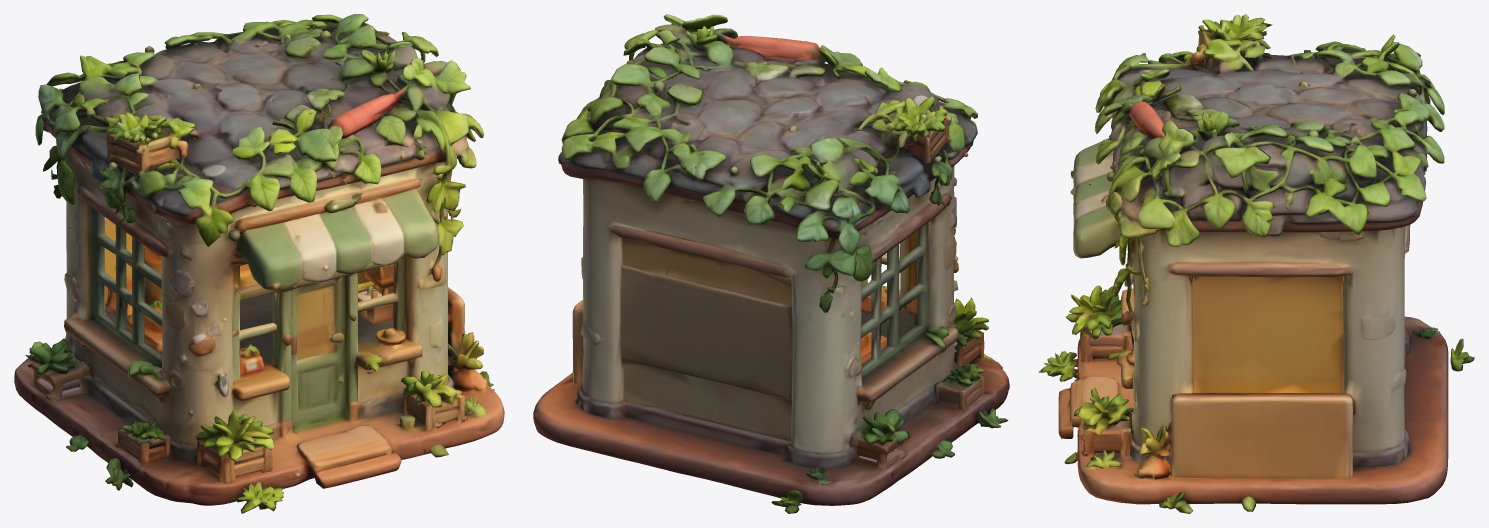
The model's file is survivor-desktop.glb.
3 renders of one model, left to right at view 1: azimuth 30°, elevation 25°; view 2: azimuth 150°, elevation 25°; view 3: azimuth 270°, elevation 25°, orthographic. The views are drawn at different scales.
Parts seen in each view (by area): view 1: tripo_node_530a4247-a100-45eb-ac43-f520bf5e6653; view 2: tripo_node_530a4247-a100-45eb-ac43-f520bf5e6653; view 3: tripo_node_530a4247-a100-45eb-ac43-f520bf5e6653.
Part boxes in pixels (bbox=[...]): tripo_node_530a4247-a100-45eb-ac43-f520bf5e6653: bbox=[14, 14, 504, 513]; tripo_node_530a4247-a100-45eb-ac43-f520bf5e6653: bbox=[533, 14, 1009, 513]; tripo_node_530a4247-a100-45eb-ac43-f520bf5e6653: bbox=[1038, 14, 1474, 513].
Size of the model in its own units: 0.9796 by 0.8566 by 0.9598.
1 material, 1 textured.
